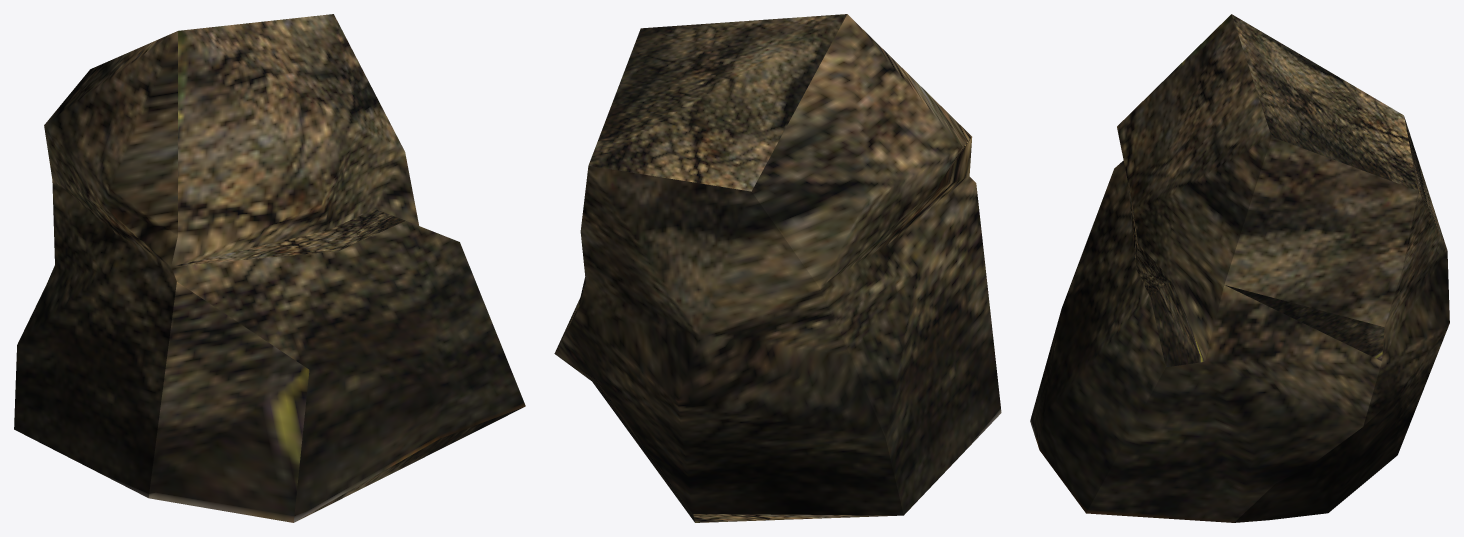
The picture shows the model from 3 angles, left to right: view 1: azimuth 30°, elevation 25°; view 2: azimuth 150°, elevation 25°; view 3: azimuth 270°, elevation 25°; orthographic projection. The views are drawn at different scales.
Parts seen in each view (by area): view 1: wj34; view 2: wj34; view 3: wj34.
Part boxes in pixels (bbox=[...]): wj34: bbox=[14, 14, 525, 522]; wj34: bbox=[554, 14, 1001, 522]; wj34: bbox=[1030, 14, 1449, 522].
Size of the model in its own units: 294 by 349 by 292.
